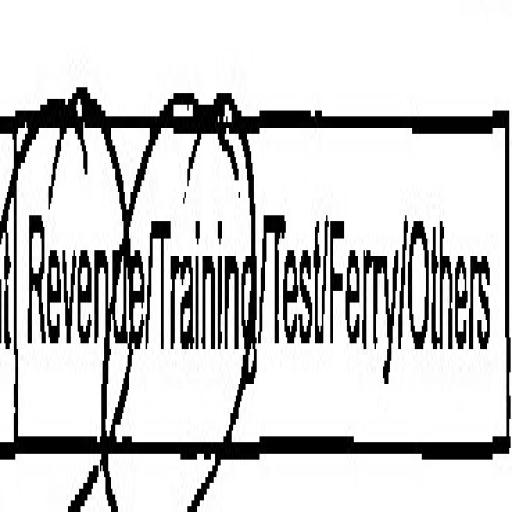check: (12, 36, 149, 512), (153, 28, 262, 512)
